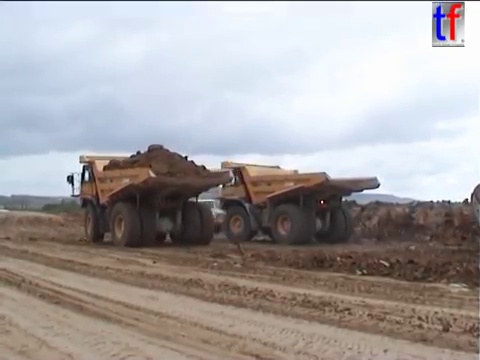excavator: (469, 180, 480, 230)
truck: (65, 152, 234, 249), (211, 158, 384, 247), (131, 196, 228, 236)
